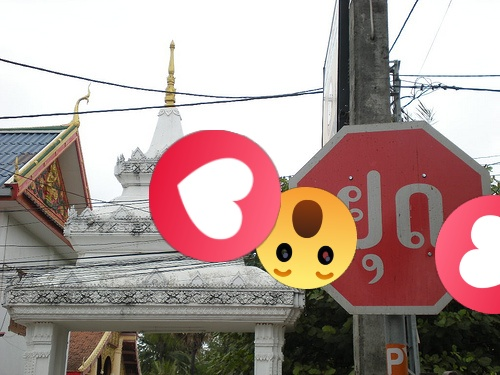love: (149, 130, 281, 262), (435, 195, 500, 314)
wow: (255, 187, 357, 289)
